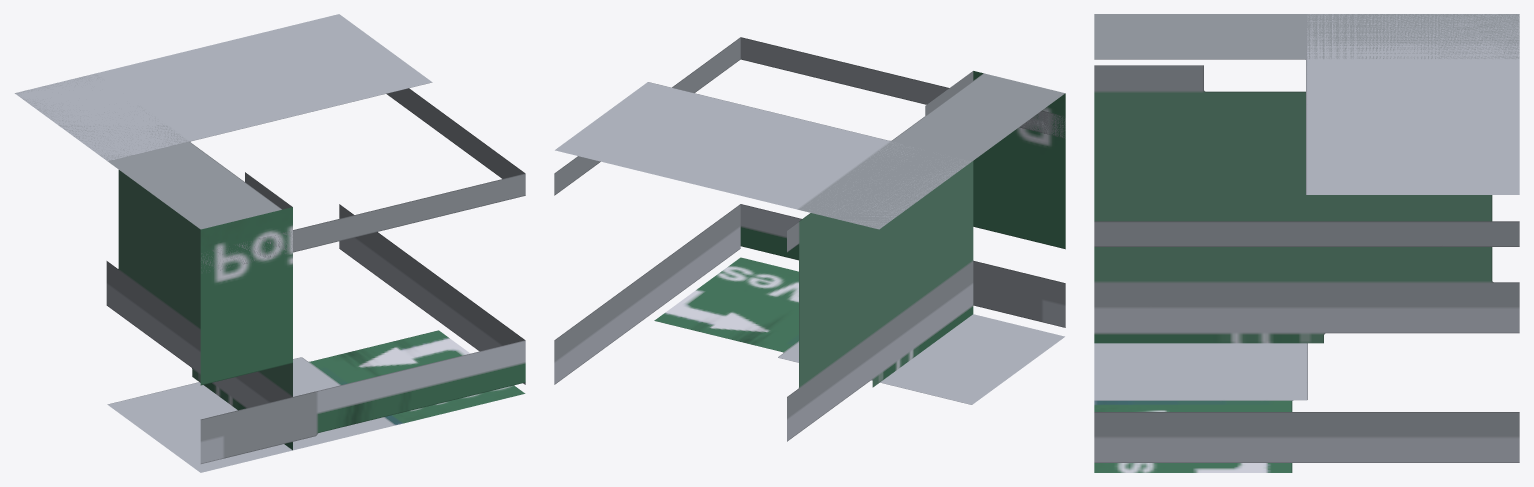
File: section-1.obj
The picture shows the model from 3 angles, left to right: view 1: azimuth 30°, elevation 25°; view 2: azimuth 150°, elevation 25°; view 3: azimuth 270°, elevation 25°; orthographic projection. The views are drawn at different scales.
Size of the model in its own units: 0.9735 by 0.6972 by 0.967.
